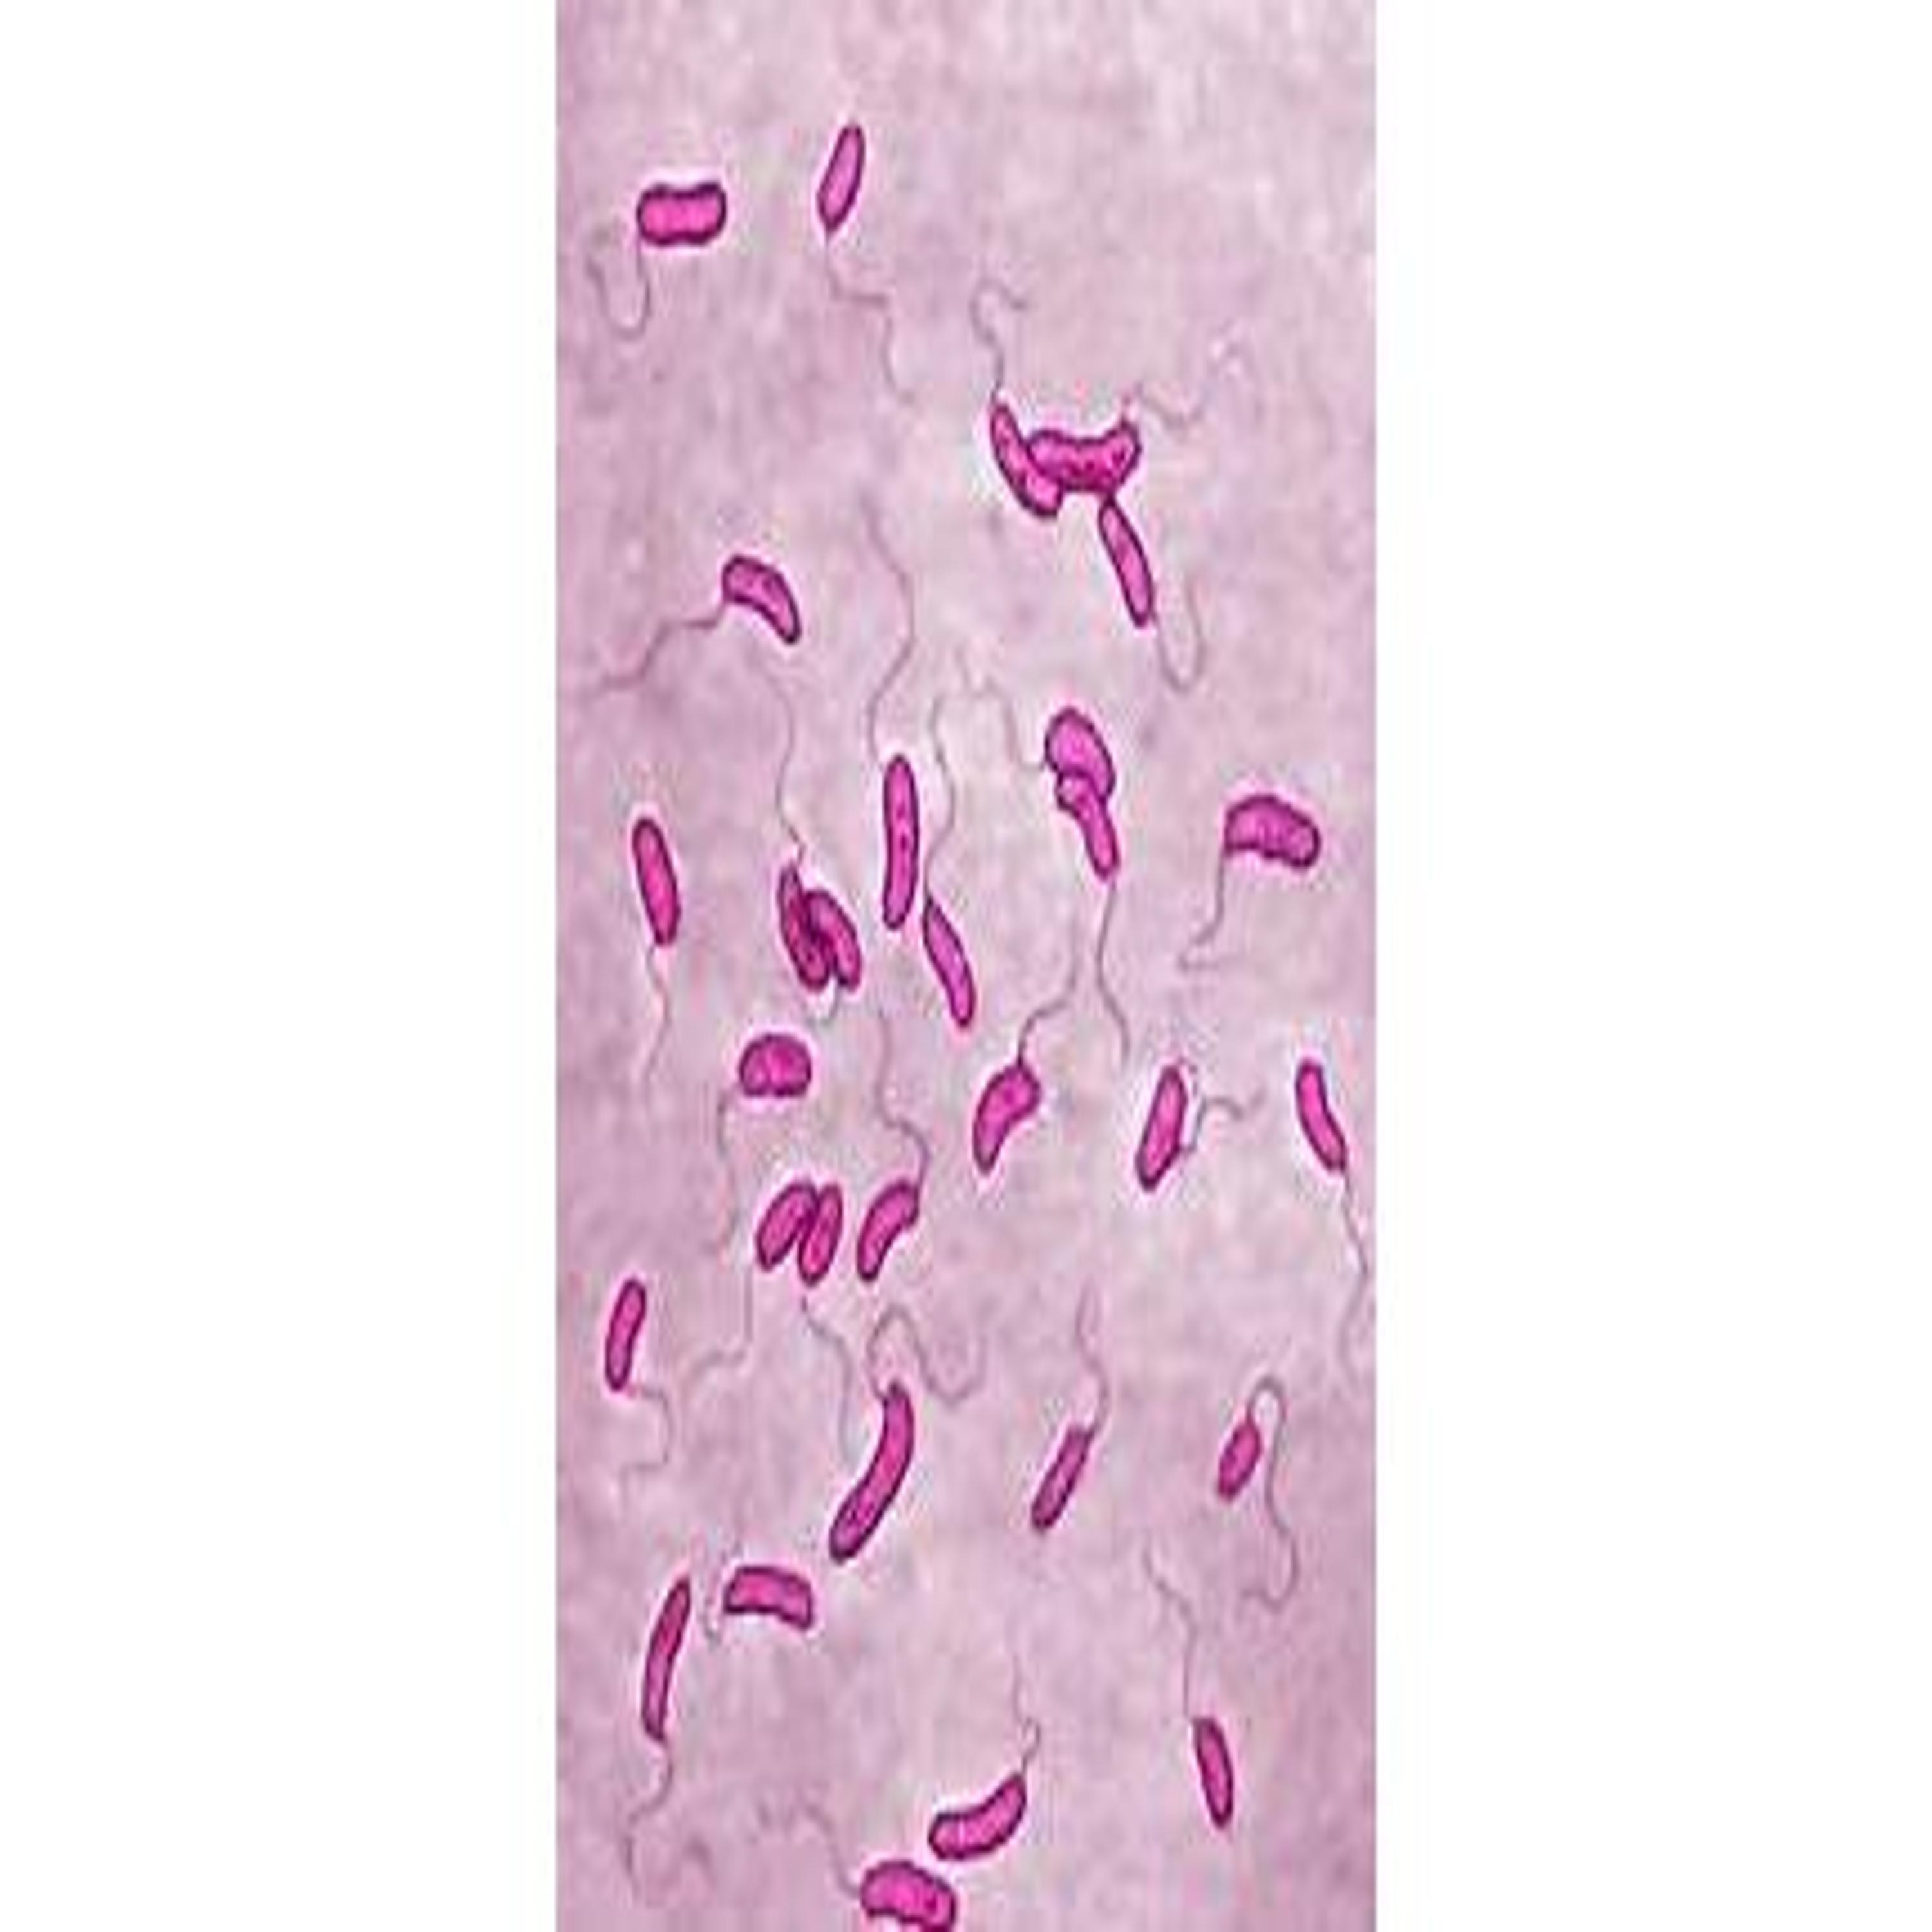Vibrio_cholerae5: (584, 550, 803, 695), (1189, 791, 1323, 968), (586, 182, 731, 345), (626, 807, 685, 1081), (1293, 1058, 1362, 1274)
